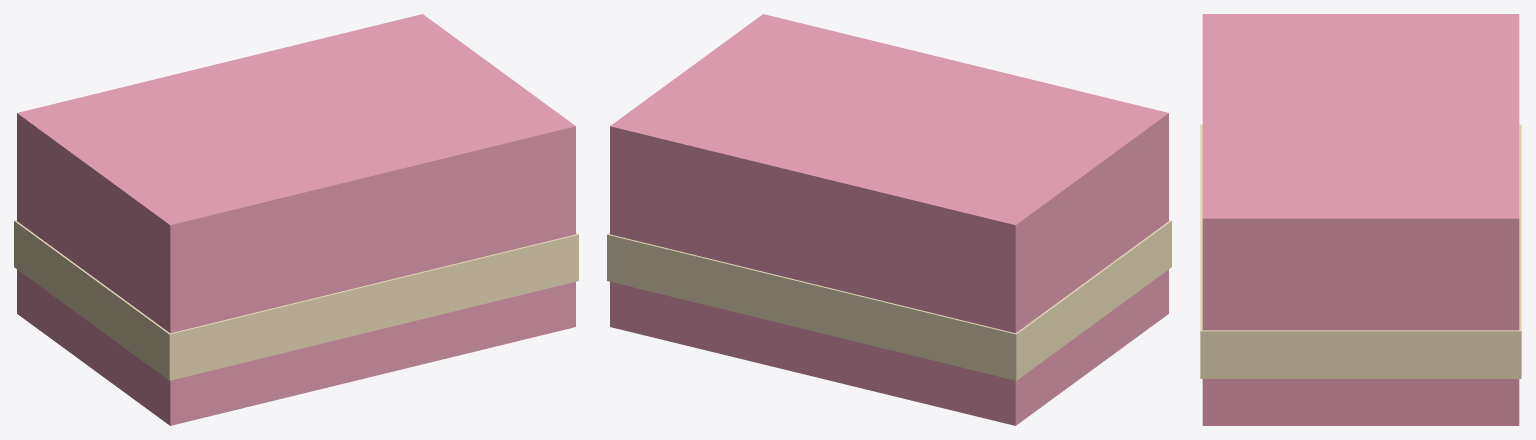
Rendered from rubber-eraser.glb.
3 renders of one model, left to right at view 1: azimuth 30°, elevation 25°; view 2: azimuth 150°, elevation 25°; view 3: azimuth 270°, elevation 25°, orthographic. The views are drawn at different scales.
Parts seen in each view (by area): view 1: Borrador de nata-pink, Borrador de nata-cream; view 2: Borrador de nata-pink, Borrador de nata-cream; view 3: Borrador de nata-pink, Borrador de nata-cream.
Boxes of the visible parts, bbox=[...] form: Borrador de nata-pink: bbox=[17, 14, 575, 425]; Borrador de nata-cream: bbox=[14, 220, 578, 380]; Borrador de nata-pink: bbox=[610, 14, 1168, 425]; Borrador de nata-cream: bbox=[607, 220, 1171, 380]; Borrador de nata-pink: bbox=[1202, 14, 1519, 425]; Borrador de nata-cream: bbox=[1200, 124, 1521, 378].
Size of the model in its own units: 1.11 by 0.52 by 0.73.
